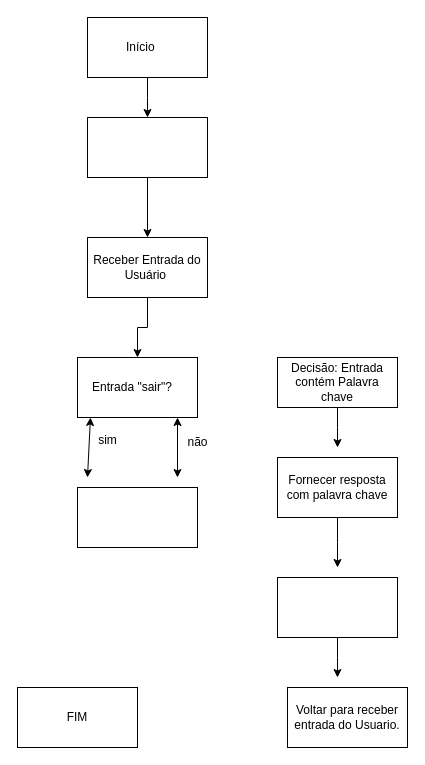
Image size: 425x765. Some labels were removed from this diagram. Each missing label, with the centre of its shape:
Exibir a mensagem de despedida e encerrar o programa: point 137,517
Exibir mensagem inicial: point 147,147
Fornecer resposta padrão: point 337,607
